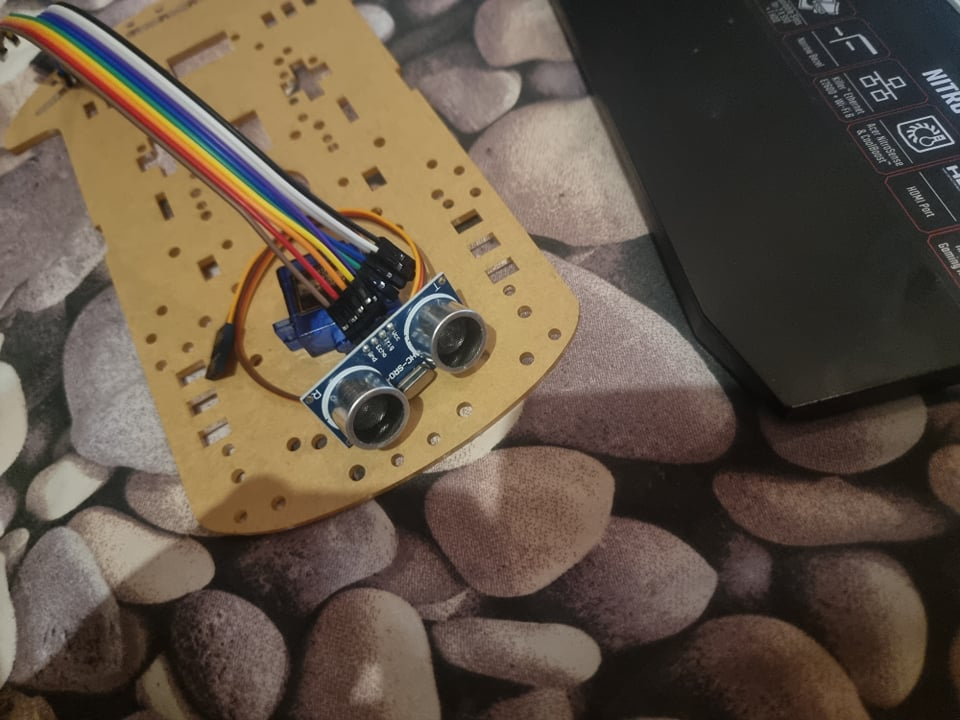SENSOR: (299, 280, 493, 455)
